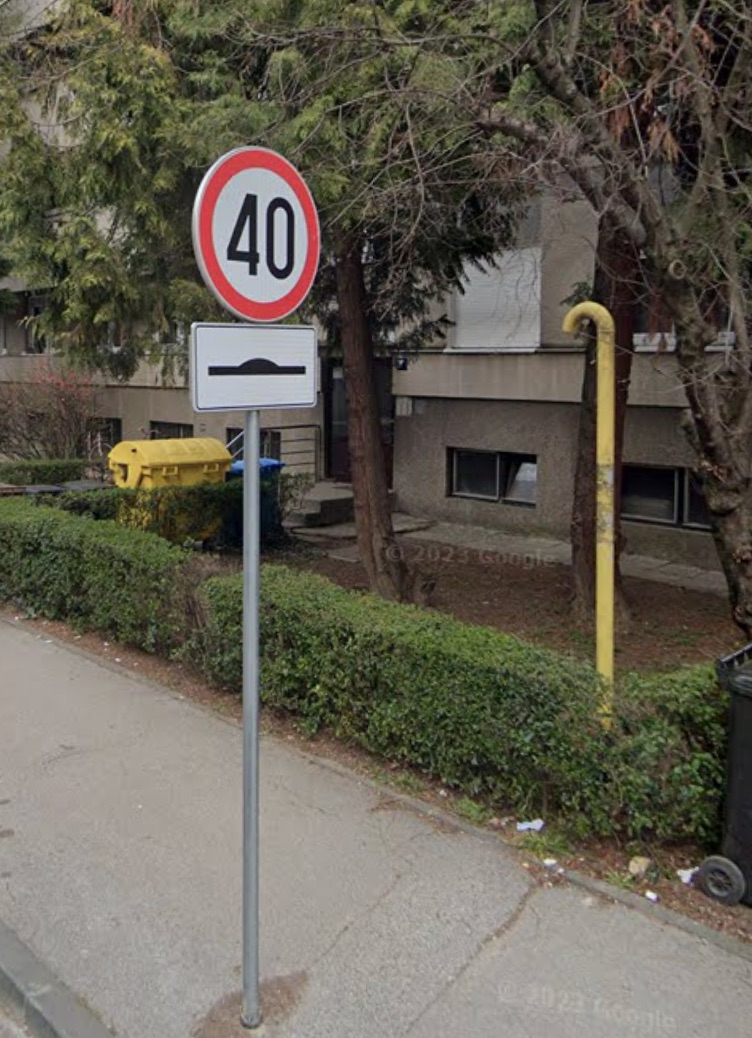Ograničenje brzine 40: (193, 145, 321, 324)
